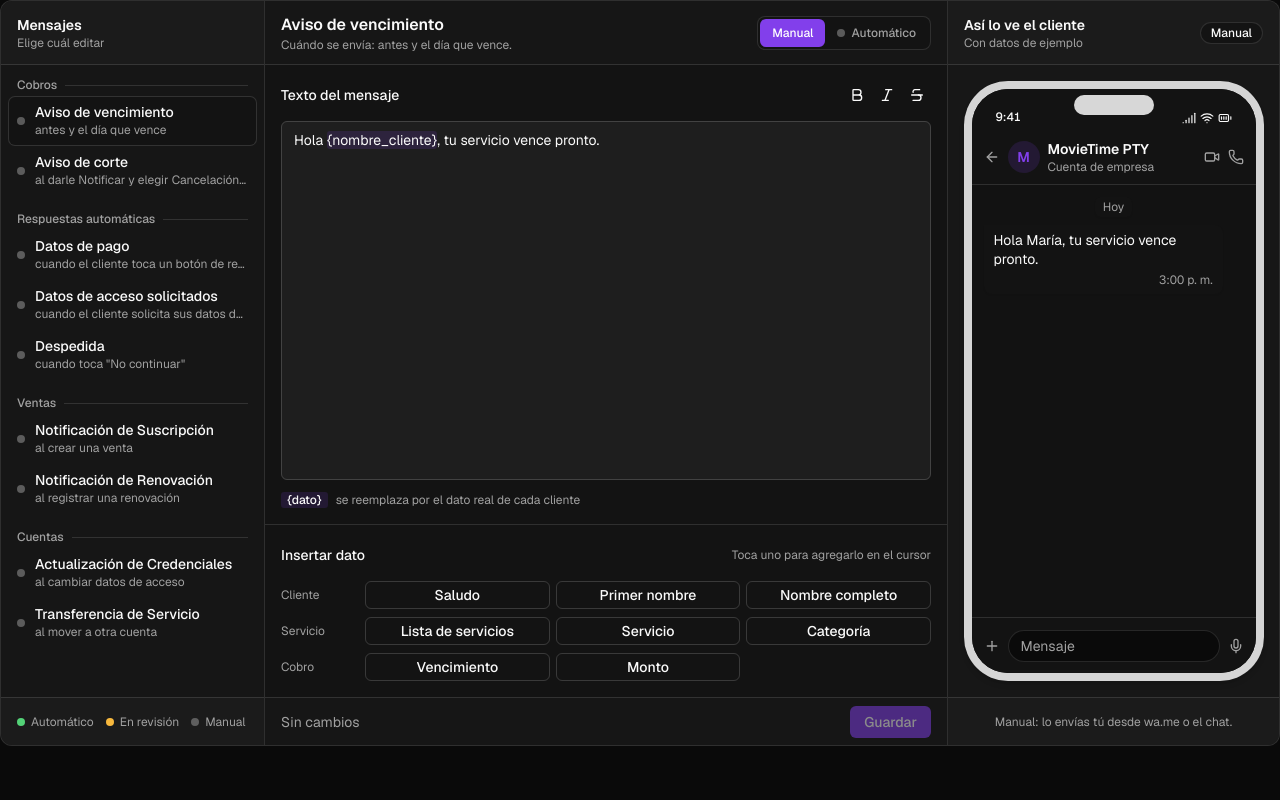
TemplateEditor › switches between manual and automatic in place, following the linked template by default
Check: the dropdown labelled "Plantilla vinculada" is not shown
Step 1. Click the button "Automático" → [877, 32], box [826,18,928,46]
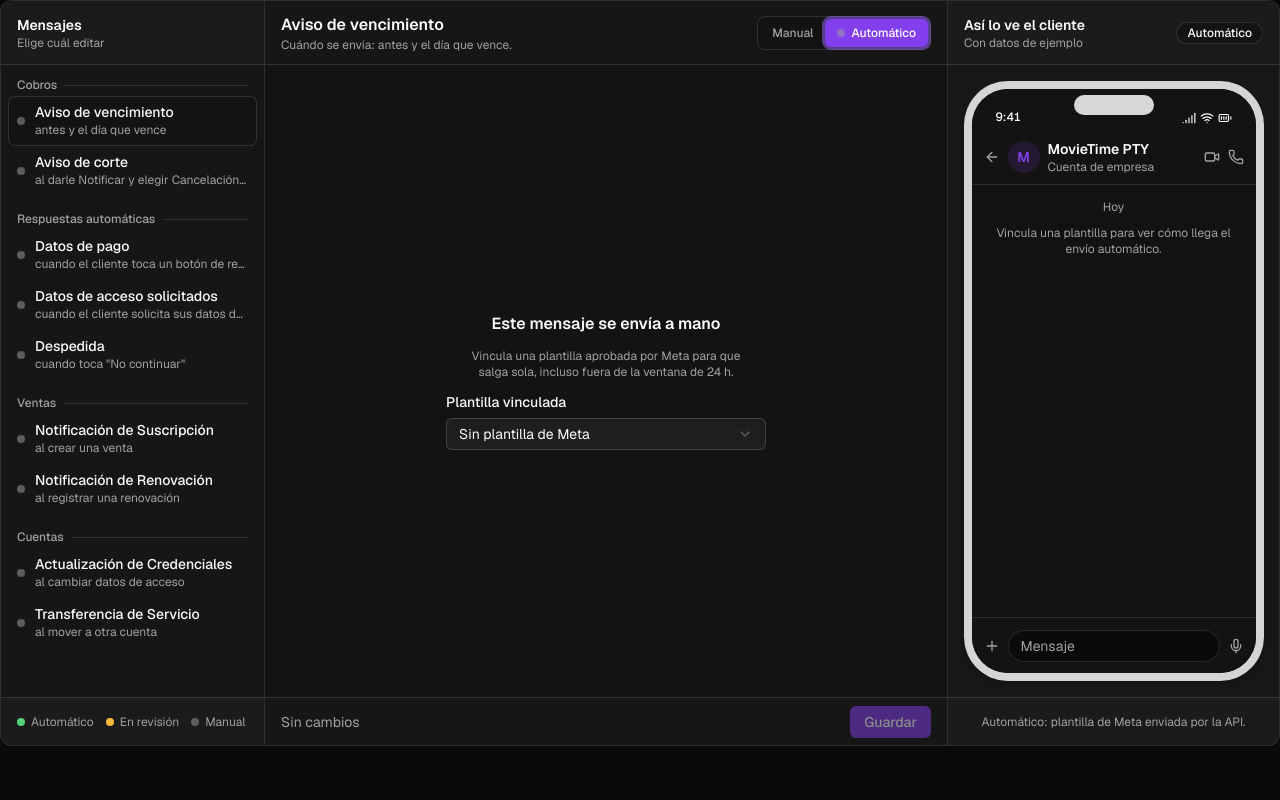
Check: the dropdown named "Plantilla vinculada" is shown, box [446,418,766,450]
Step 2. Click the button "Manual" → [793, 32], box [760,18,826,46]
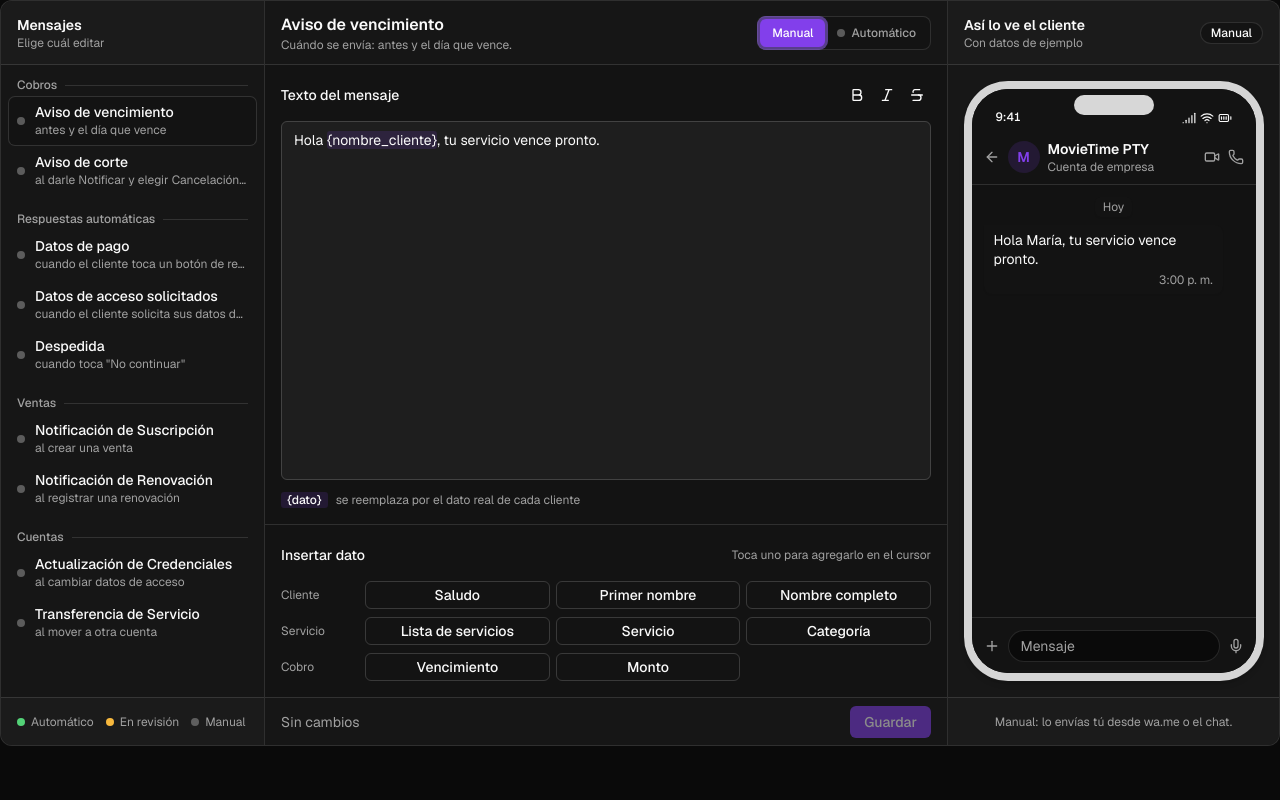
Check: the text box is shown, box [281,121,931,480]
